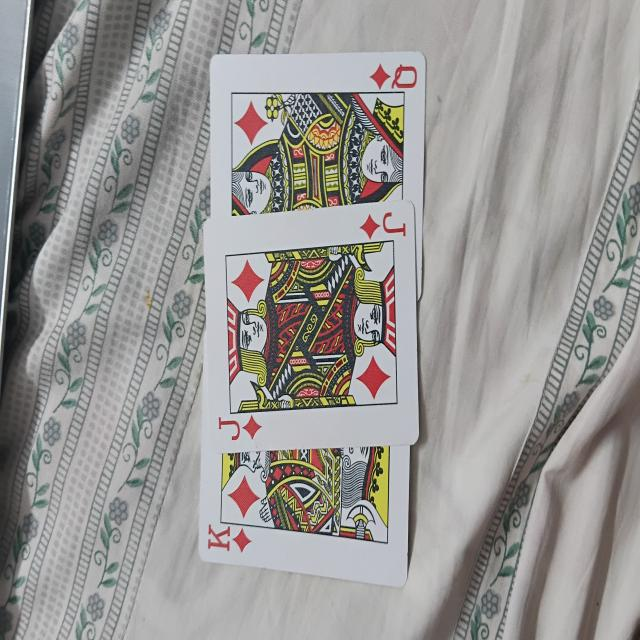JD: (204, 213, 420, 445)
KD: (203, 439, 414, 591)
QD: (212, 57, 423, 206)
